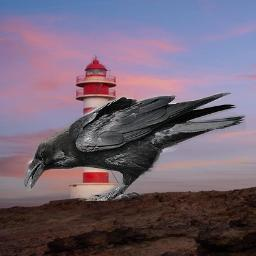Crow: (24, 92, 246, 201)
